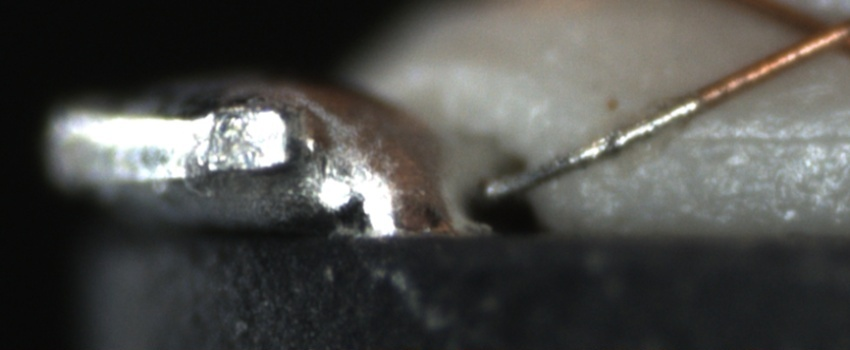CL: (773, 3, 848, 63)
DL: (683, 110, 850, 175)
TS: (480, 94, 704, 201)
